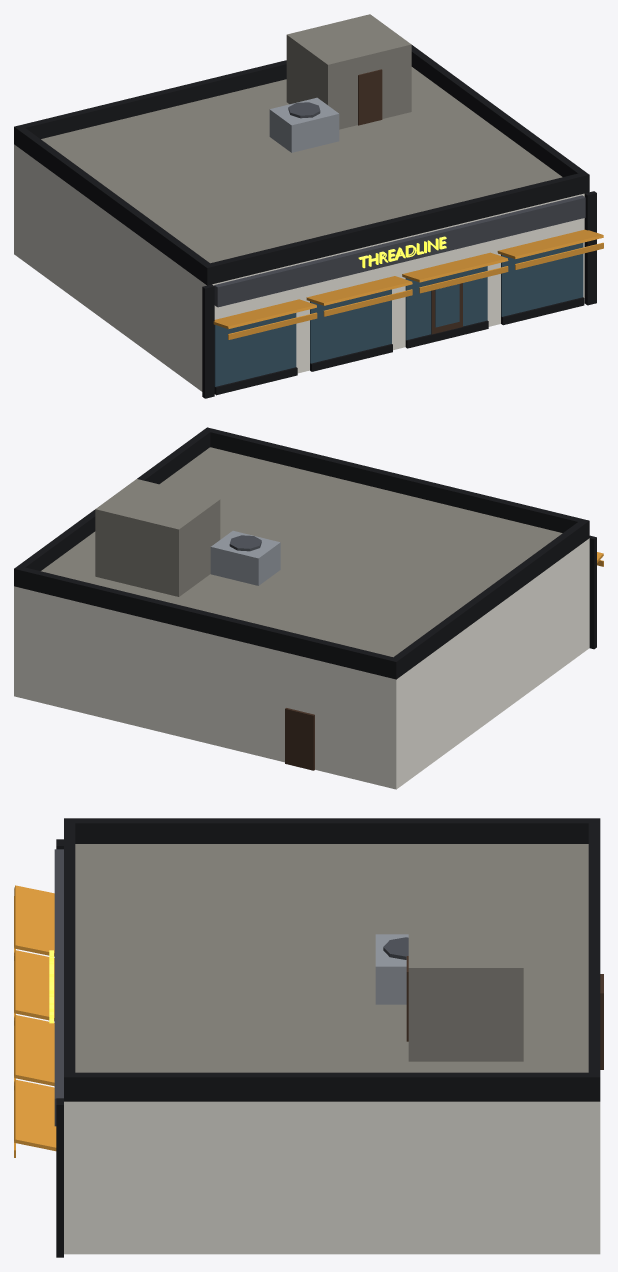
The model's file is shop_clothing.glb.
3 renders of one model, top to bottom at view 1: azimuth 30°, elevation 25°; view 2: azimuth 150°, elevation 25°; view 3: azimuth 270°, elevation 25°, orthographic. The views are drawn at different scales.
Parts seen in each view (by area): view 1: shop_clothing; view 2: shop_clothing; view 3: shop_clothing.
Boxes of the visible parts, left/top/right/bottom form: shop_clothing: left=14, top=14, right=603, bottom=398; shop_clothing: left=14, top=427, right=603, bottom=789; shop_clothing: left=14, top=818, right=603, bottom=1257.
Size of what is drawn, in the model's own units: 16.4 by 7.2 by 15.4.
